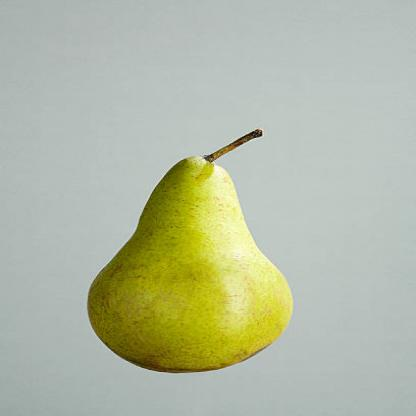Paer: (64, 130, 322, 375)
